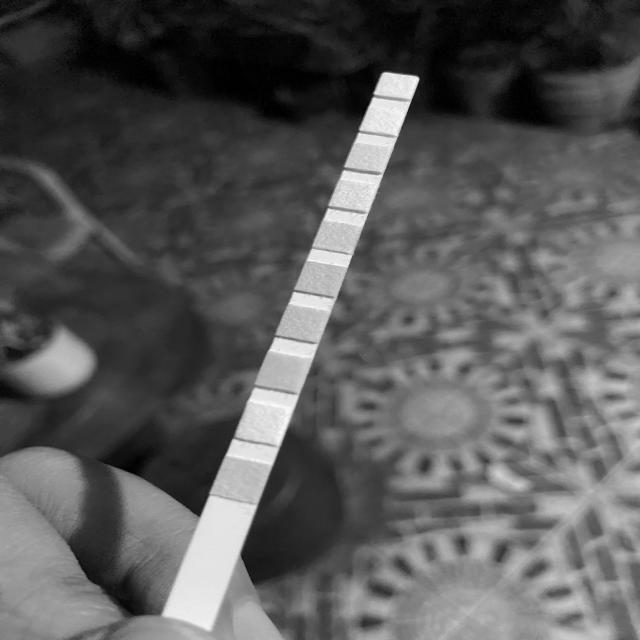Bilirubin: (246, 409, 282, 438)
Blood: (304, 267, 339, 291)
Glucose: (222, 464, 262, 496)
Ketone: (264, 358, 302, 385)
Leukocytes: (381, 76, 412, 96)
Nitrite: (366, 113, 400, 130)
Protein: (337, 185, 371, 207)
SpGravity: (284, 312, 323, 336)
Urobilinogen: (352, 148, 384, 168)
background: (0, 0, 640, 640)
pH: (320, 226, 356, 248)
strip: (164, 73, 419, 621)
